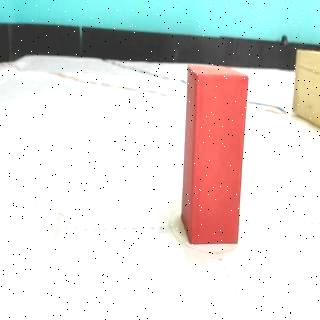redbox: (184, 65, 247, 243)
